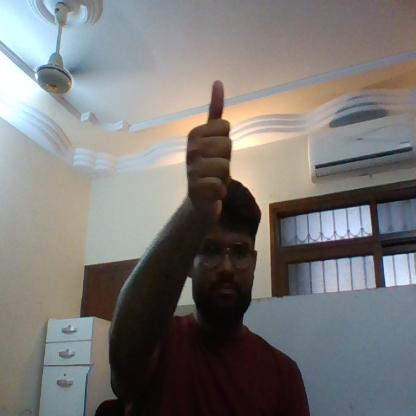thumbs-up: (183, 76, 247, 202)
